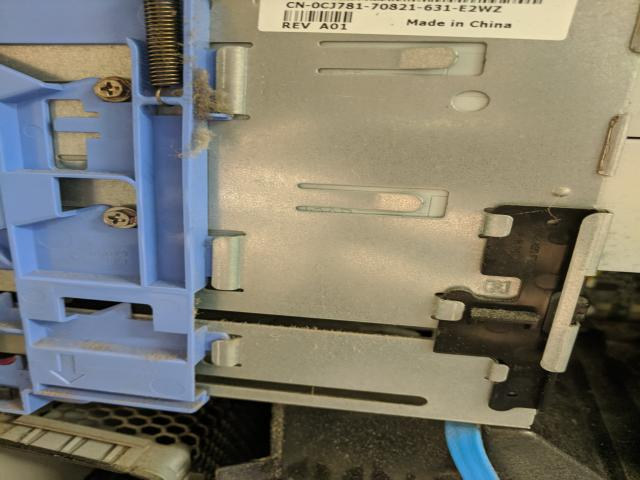CRS: (93, 77, 127, 100), (103, 208, 135, 228)
